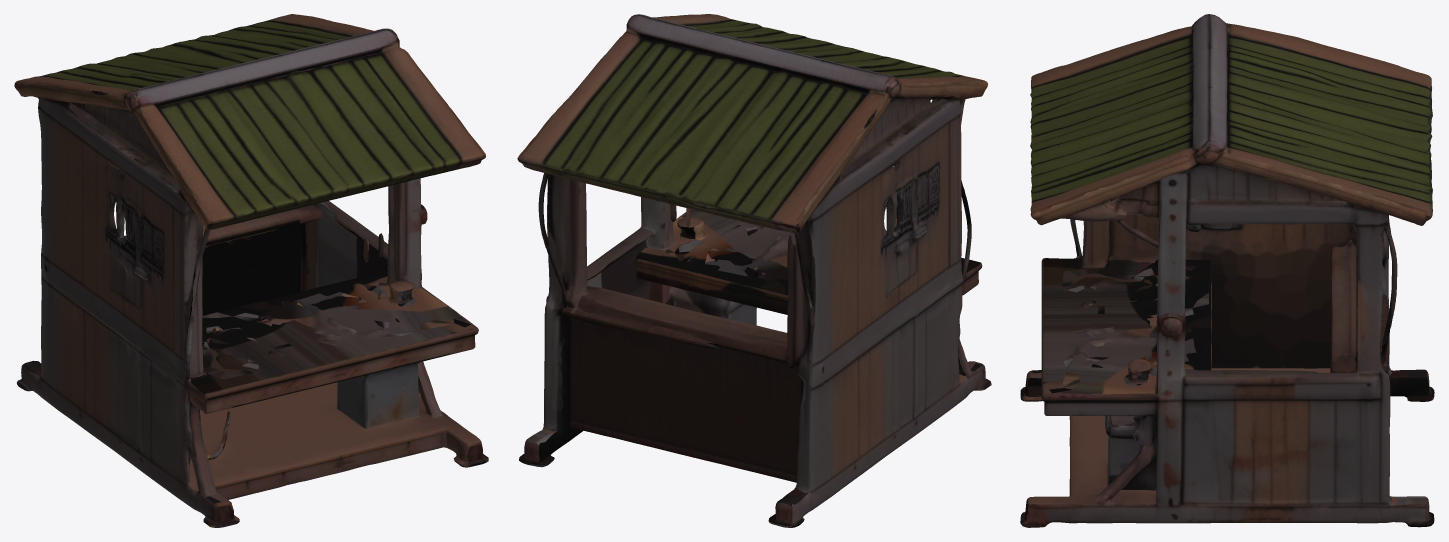
Rendered from catalog-build-45.glb.
The picture shows the model from 3 angles, left to right: view 1: azimuth 30°, elevation 25°; view 2: azimuth 150°, elevation 25°; view 3: azimuth 270°, elevation 25°; orthographic projection. The views are drawn at different scales.
Parts seen in each view (by area): view 1: tmp88ohitz6.ply; view 2: tmp88ohitz6.ply; view 3: tmp88ohitz6.ply.
Boxes of the visible parts, bbox=[...] form: tmp88ohitz6.ply: bbox=[14, 14, 488, 527]; tmp88ohitz6.ply: bbox=[517, 14, 991, 527]; tmp88ohitz6.ply: bbox=[1020, 14, 1434, 527].
Bounding box in the file's own units: 1.58 × 1.96 × 1.93.
Materials: 1 (1 with a texture image).
